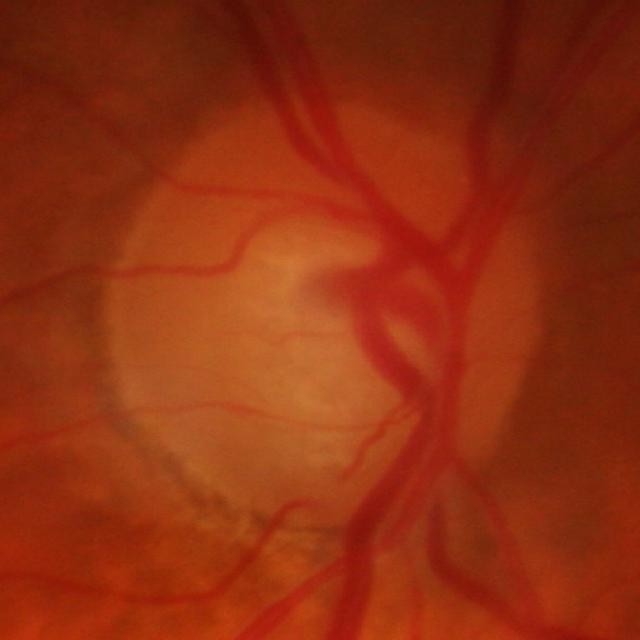OC: (267, 227, 435, 470)
OD: (103, 103, 539, 521)
